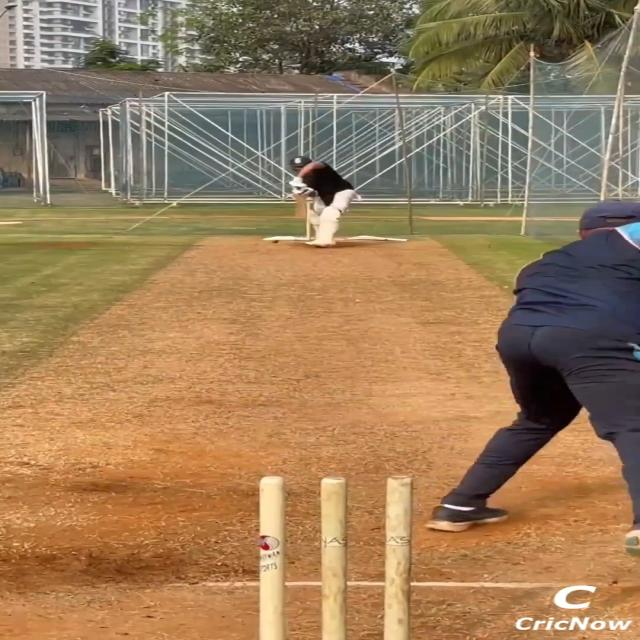ball: (272, 239, 280, 244)
stump: (255, 475, 415, 640)
